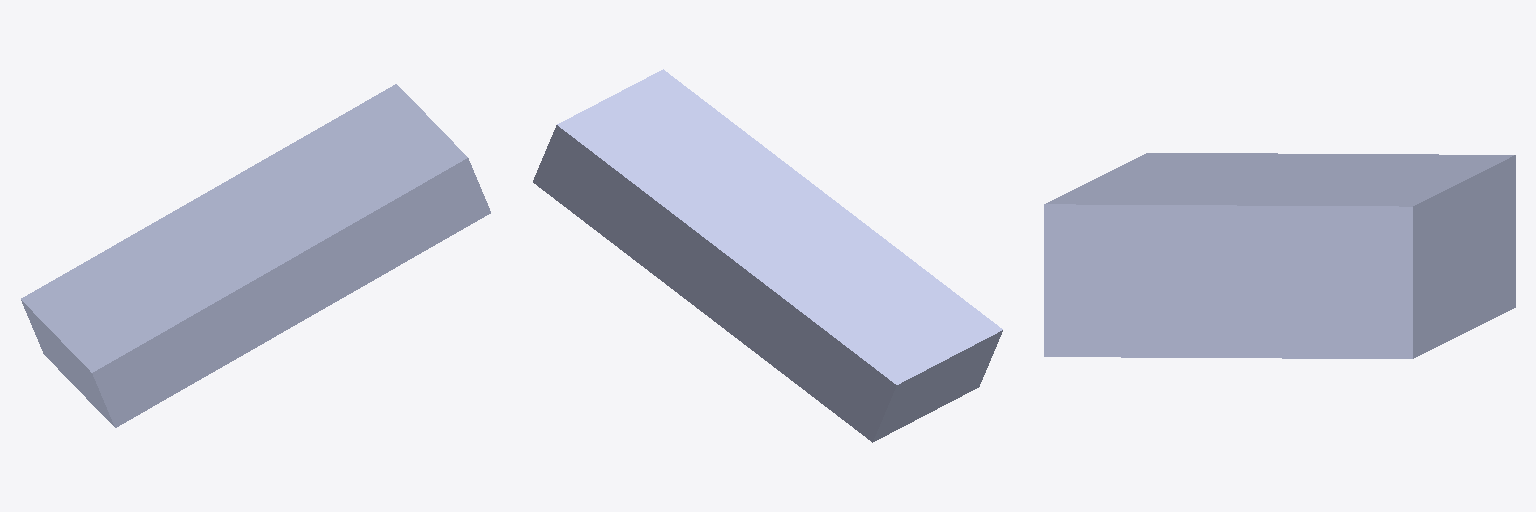
The robot description file, URDF, robot "only_servo.SLDASM":
<?xml version="1.0" encoding="utf-8"?>
<!-- This URDF was automatically created by SolidWorks to URDF Exporter! Originally created by [author] ([email redacted]) 
     Commit Version: 1.6.0-4-g7f85cfe  Build Version: 1.6.7995.38578
     For more information, please see http://wiki.ros.org/sw_urdf_exporter -->
<robot
  name="only_servo.SLDASM">
  <link
    name="stab_link">
    <inertial>
      <origin
        xyz="0.012635 -5.1845E-09 0.0011677"
        rpy="0 0 0" />
      <mass
        value="0.042672" />
      <inertia
        ixx="3.5455E-06"
        ixy="-9.8833E-12"
        ixz="-3.2724E-08"
        iyy="8.6941E-06"
        iyz="9.7525E-14"
        izz="9.9716E-06" />
    </inertial>
    <visual>
      <origin
        xyz="0 0 0"
        rpy="0 0 0" />
      <geometry>
        <mesh
          filename="package://only_servo.SLDASM/meshes/stab_link.STL" />
      </geometry>
      <material
        name="">
        <color
          rgba="0.50196 0.50196 0.50196 1" />
      </material>
    </visual>
    <collision>
      <origin
        xyz="0 0 0"
        rpy="0 0 0" />
      <geometry>
        <mesh
          filename="package://only_servo.SLDASM/meshes/stab_link.STL" />
      </geometry>
    </collision>
  </link>
  <link
    name="servo2_link">
    <inertial>
      <origin
        xyz="-0.0013648 0.016 0.0011677"
        rpy="0 0 0" />
      <mass
        value="0.042672" />
      <inertia
        ixx="3.5455E-06"
        ixy="-9.8831E-12"
        ixz="-3.2724E-08"
        iyy="8.6941E-06"
        iyz="9.758E-14"
        izz="9.9716E-06" />
    </inertial>
    <visual>
      <origin
        xyz="0 0 0"
        rpy="0 0 0" />
      <geometry>
        <mesh
          filename="package://only_servo.SLDASM/meshes/servo2_link.STL" />
      </geometry>
      <material
        name="">
        <color
          rgba="0.50196 0.50196 0.50196 1" />
      </material>
    </visual>
    <collision>
      <origin
        xyz="0 0 0"
        rpy="0 0 0" />
      <geometry>
        <mesh
          filename="package://only_servo.SLDASM/meshes/servo2_link.STL" />
      </geometry>
    </collision>
  </link>
  <joint
    name="servo1_to_servo2"
    type="revolute">
    <origin
      xyz="0 -0.021 0"
      rpy="-3.1416 -0.38051 0" />
    <parent
      link="stab_link" />
    <child
      link="servo2_link" />
    <axis
      xyz="0 1 0" />
    <limit
      lower="-1.57"
      upper="1.57"
      effort="10"
      velocity="6" />
  </joint>
  <link
    name="camera_mount_link">
    <inertial>
      <origin
        xyz="0.0015655 0.011821 0.005"
        rpy="0 0 0" />
      <mass
        value="0.11501" />
      <inertia
        ixx="3.6446E-05"
        ixy="1.0588E-22"
        ixz="-1.38E-21"
        iyy="6.5851E-06"
        iyz="-1.2581E-21"
        izz="4.1114E-05" />
    </inertial>
    <visual>
      <origin
        xyz="0 0 0"
        rpy="0 0 0" />
      <geometry>
        <mesh
          filename="package://only_servo.SLDASM/meshes/camera_mount_link.STL" />
      </geometry>
      <material
        name="">
        <color
          rgba="0.79216 0.81961 0.93333 1" />
      </material>
    </visual>
    <collision>
      <origin
        xyz="0 0 0"
        rpy="0 0 0" />
      <geometry>
        <mesh
          filename="package://only_servo.SLDASM/meshes/camera_mount_link.STL" />
      </geometry>
    </collision>
  </link>
  <joint
    name="servo2_to_camera"
    type="revolute">
    <origin
      xyz="0 0.016 0.021"
      rpy="0 0 1.7325" />
    <parent
      link="servo2_link" />
    <child
      link="camera_mount_link" />
    <axis
      xyz="0 0 -1" />
    <limit
      lower="-1.57"
      upper="1.57"
      effort="10"
      velocity="6" />
  </joint>
</robot>

--- Facts derived from the render (not from the file) ---
3 views of the same robot in one strip: view 1: azimuth 30°, elevation 25°; view 2: azimuth 150°, elevation 25°; view 3: azimuth 270°, elevation 25° (orthographic).
Robot: only_servo.SLDASM — 3 links, 2 joints (2 revolute); root link stab_link; default pose: all joints at 0.
Visible links, largest first — view 1: camera_mount_link; view 2: camera_mount_link; view 3: camera_mount_link.
Boxes of the visible links, x1,y1,x2,y2 form: camera_mount_link: (21, 84, 490, 427); camera_mount_link: (533, 69, 1002, 442); camera_mount_link: (1044, 153, 1515, 358).
Size in the robot's own frame: 0.0623 by 0.0308 by 0.0327 metres.
Meshes: 3 distinct files referenced, 1 mesh visuals loaded (1 binary STL); not drawn: 2 (reference not matched to a file when rendering).